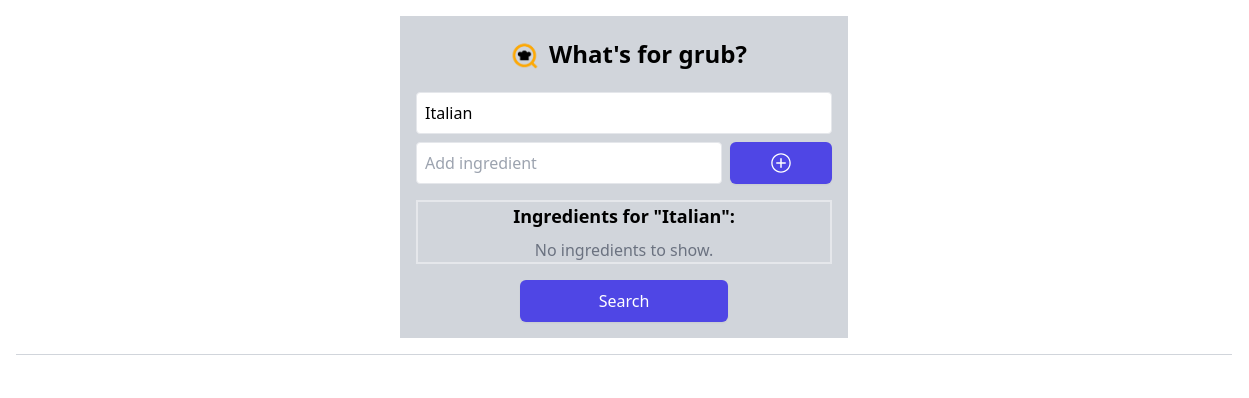
it: SearchPage component › should add ingredient to the ingredients state
Type "Potato" into the field with placeholder "Add ingredient" at coordinates (569, 163), box [416, 142, 722, 184]
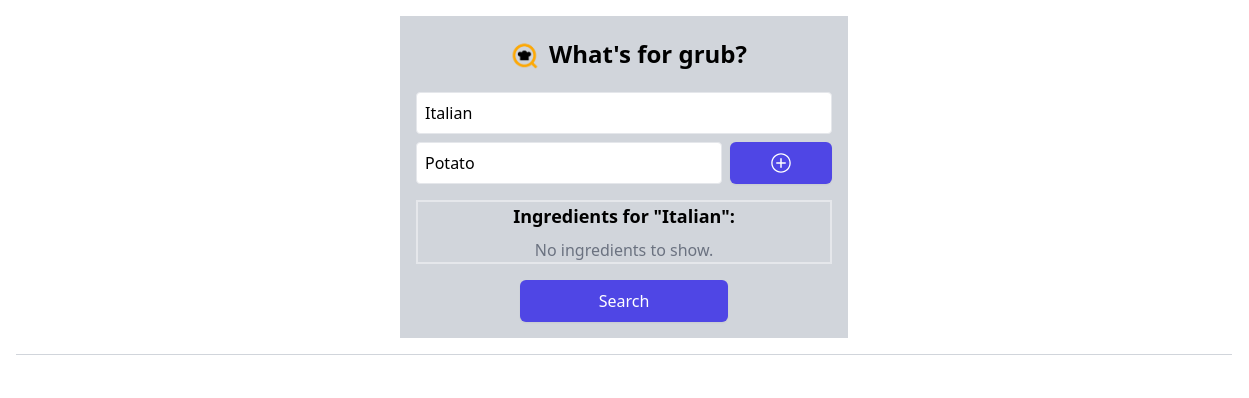
Click the button with test id "add-ingredient-button" at coordinates (781, 163), box [730, 142, 832, 184]
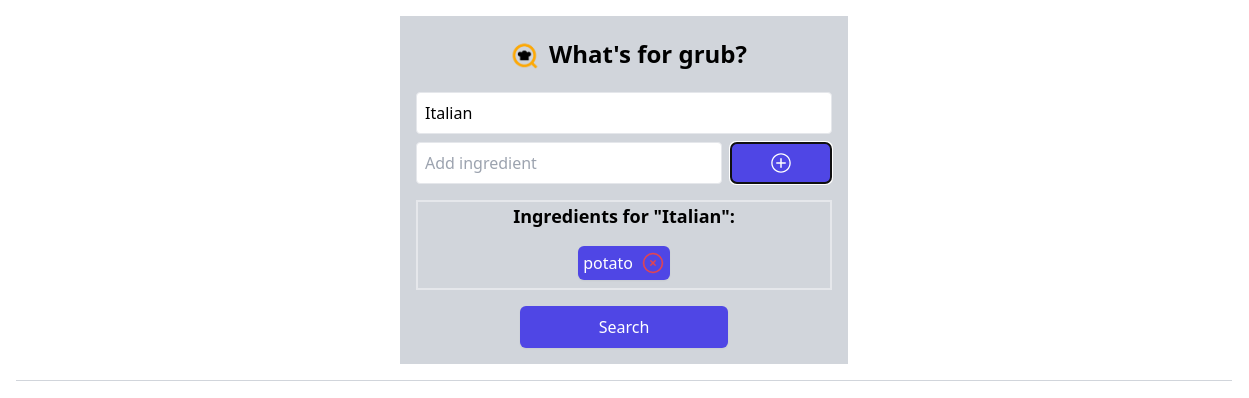
Check: the field with placeholder "Add ingredient" is empty, box [416, 142, 722, 184]
Check: the text "potato" is shown once, box [583, 251, 665, 275]
